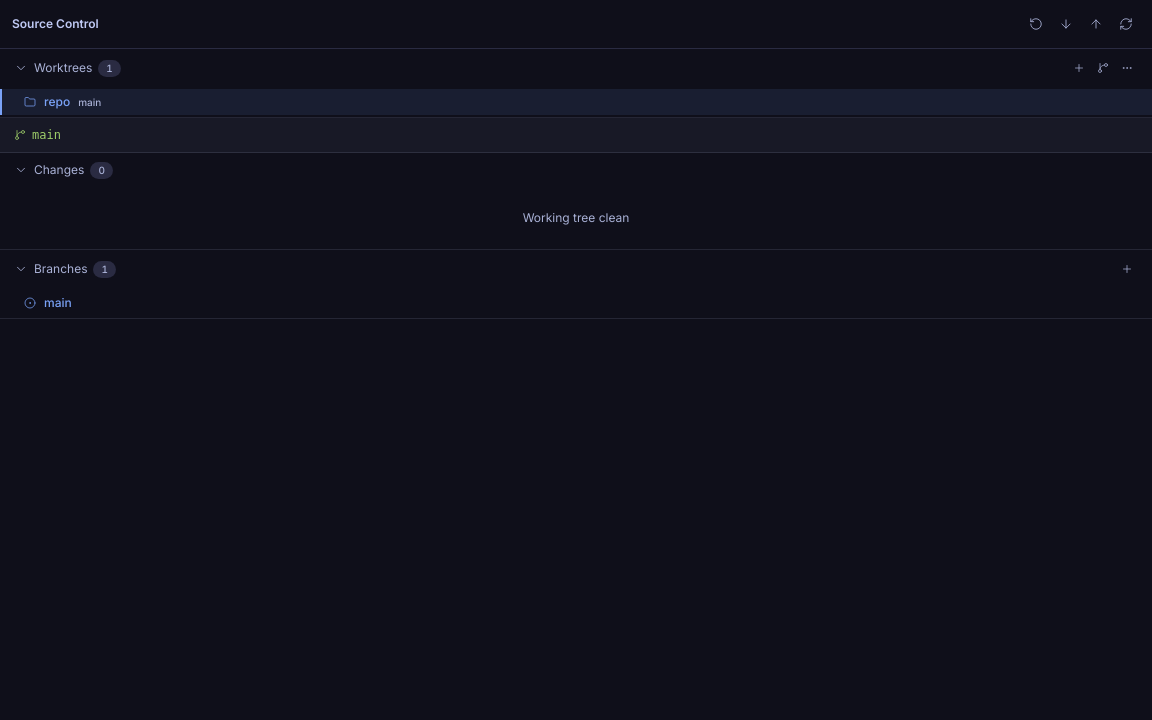
Scenario: GitTree live refresh › puts worktrees first and keeps create actions compact in their section headers
Click the button named "Create branch". click: click(1127, 269)
box: left=1116, top=258, right=1138, bottom=280
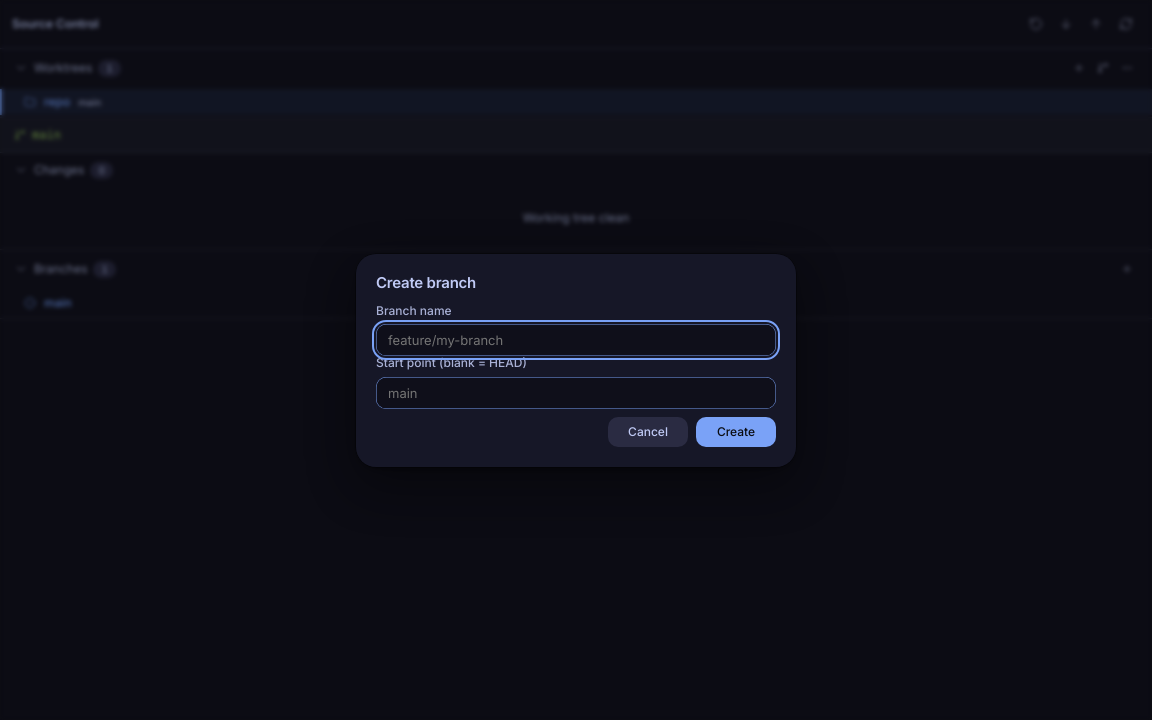
expect the dialog "Create branch" is shown: met, box left=356, top=254, right=796, bottom=466
